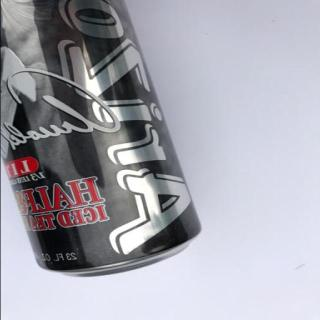Anorganik: (3, 1, 207, 288)
